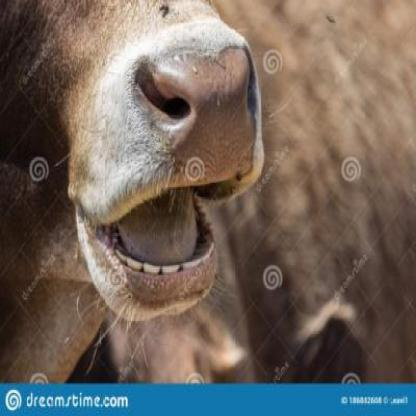lower: (156, 288, 188, 306)
mouth: (78, 38, 264, 322)
upper: (202, 109, 214, 134)
